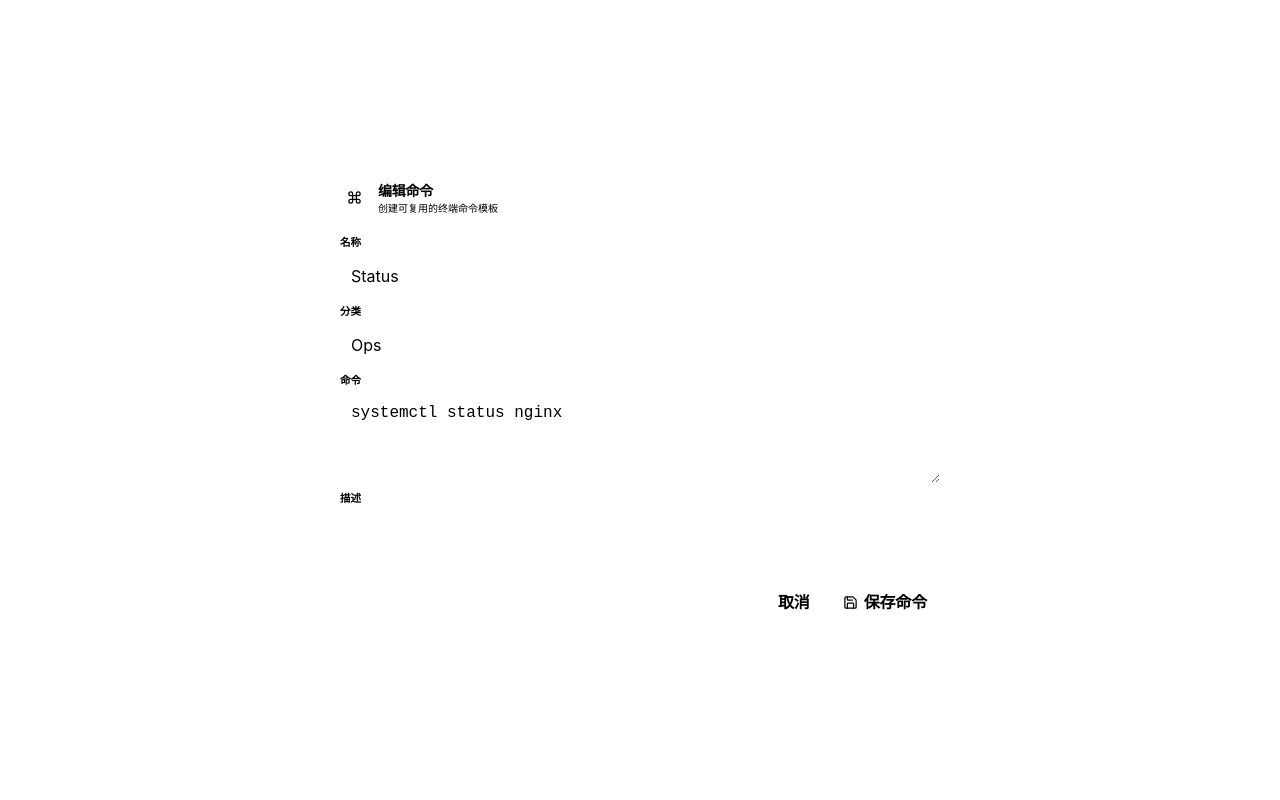
Test: CommandModal locale › labels the discard confirmation in the interface language
Replace the text in the field labelled "名称" with "Status v2": (640, 276) [340,256,940,296]
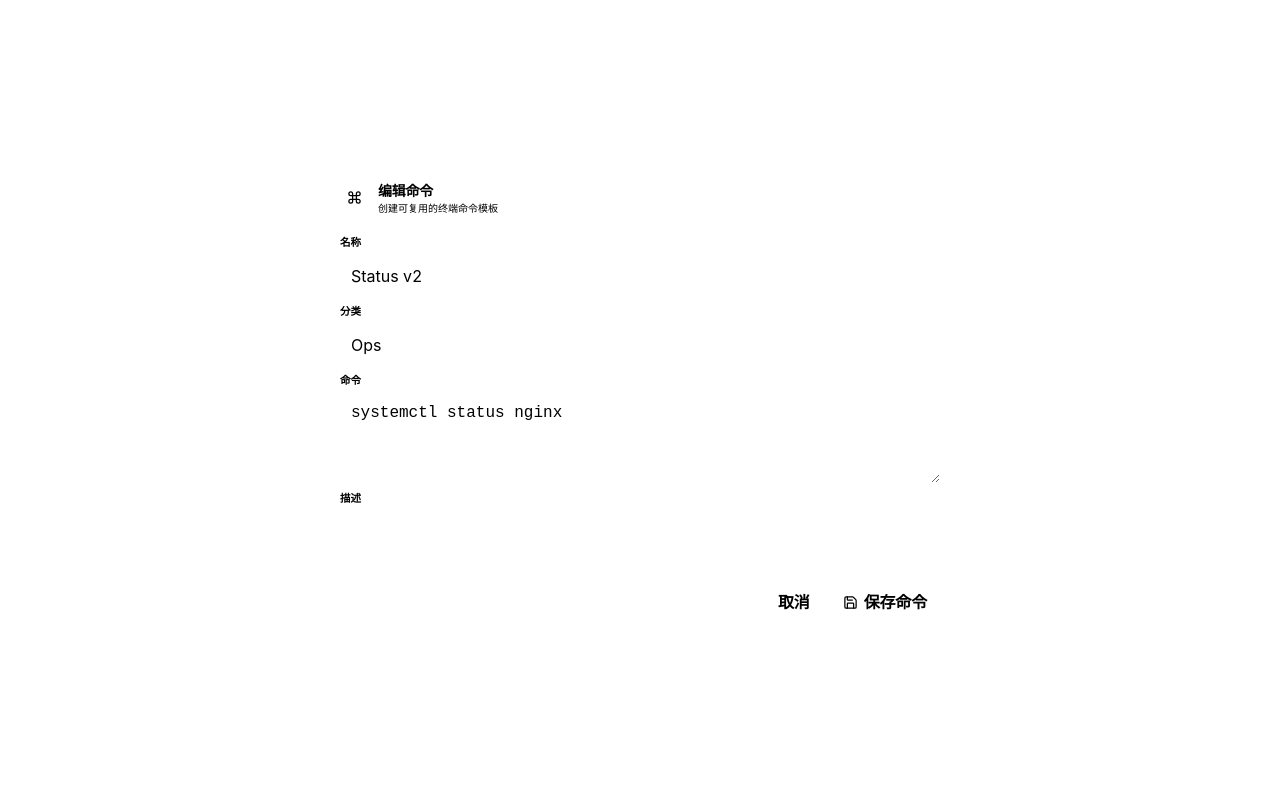
Click the button "取消": (794, 602) [766,583,822,621]
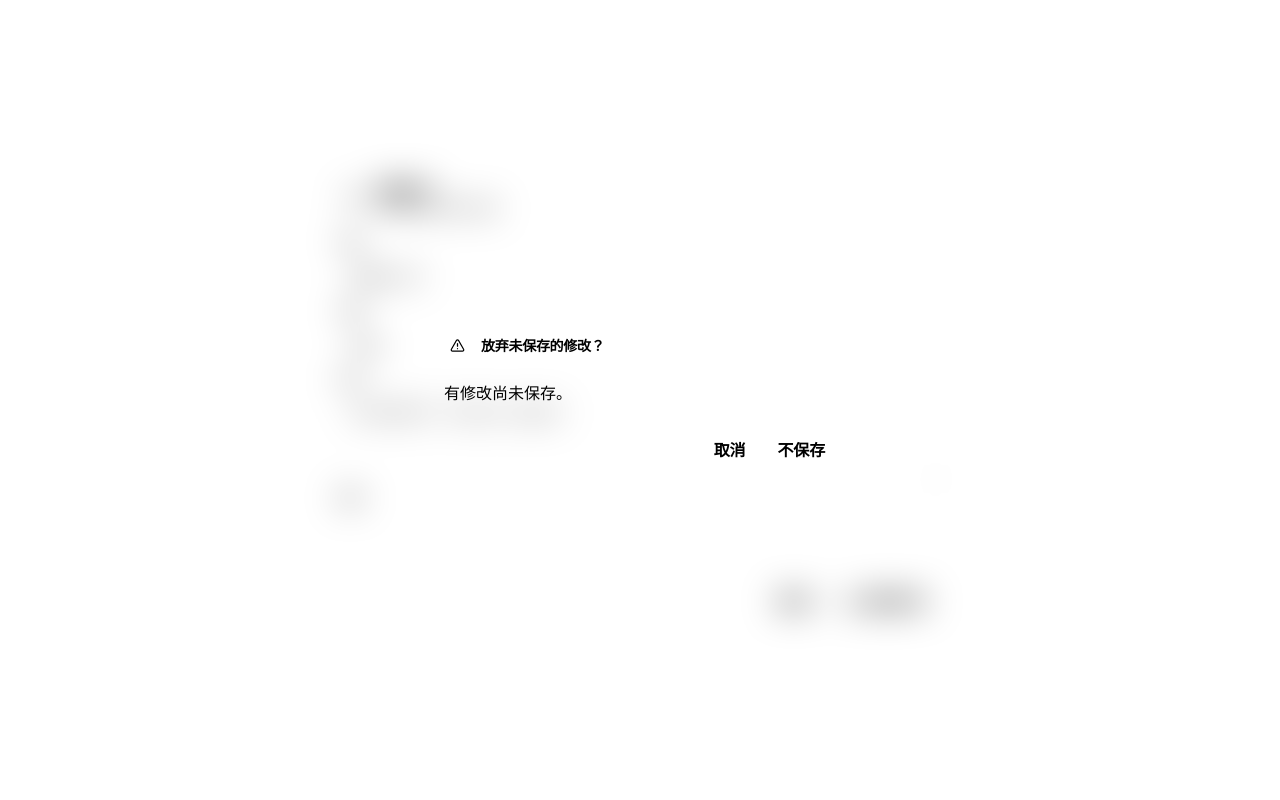
Expected: the button "不保存" is shown, [766,431,837,469]
